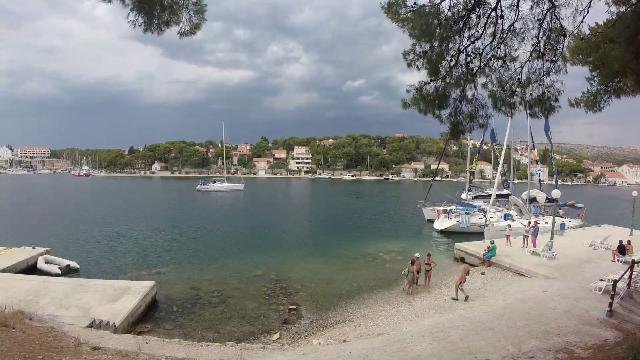Sailboat: (190, 174, 250, 196)
